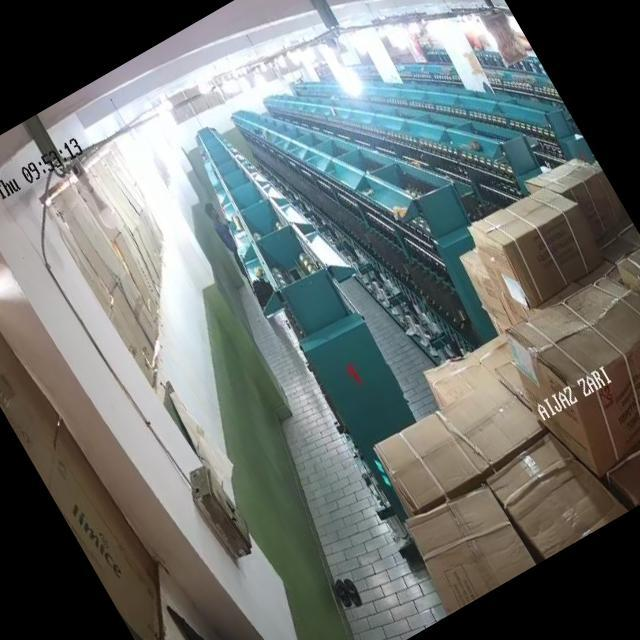person: (198, 193, 266, 294)
